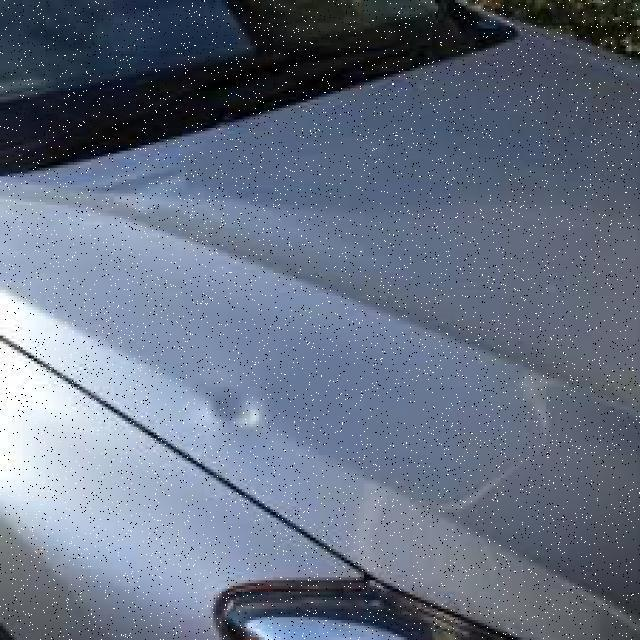bonnet-dent: (153, 0, 578, 455)
